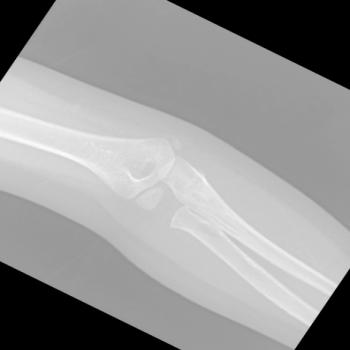Fracture: (132, 188, 183, 225)
